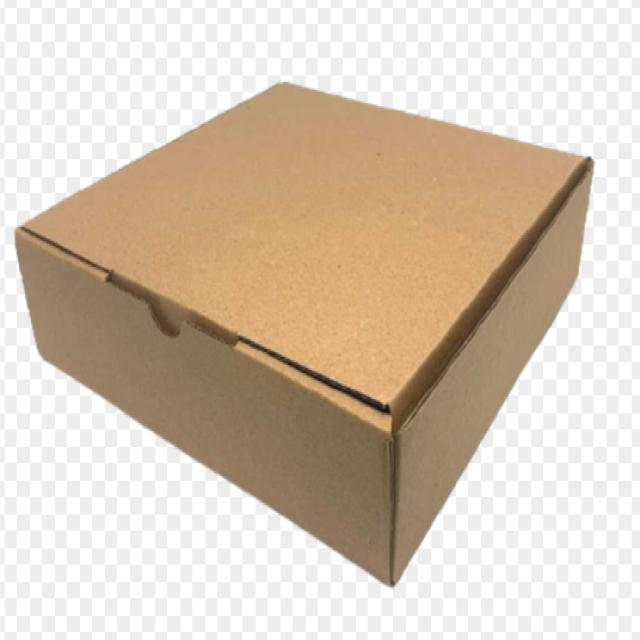Kardus: (14, 79, 594, 587)
